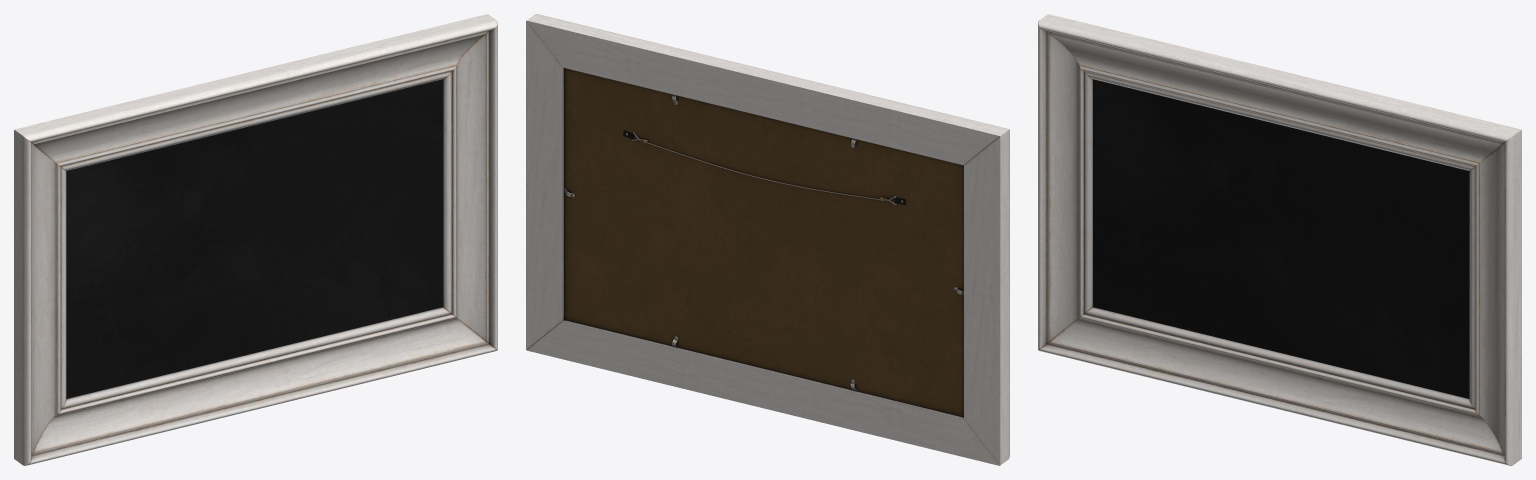
File: hanging_picture_frame_02.glb
3 views of the same model, side by side, from view 1: azimuth 30°, elevation 25°; view 2: azimuth 150°, elevation 25°; view 3: azimuth 330°, elevation 25° (orthographic).
Visible parts, largest first — view 1: hanging_picture_frame_02; view 2: hanging_picture_frame_02; view 3: hanging_picture_frame_02.
Boxes of the visible parts, left/top/right/bottom form: hanging_picture_frame_02: left=14, top=14, right=497, bottom=465; hanging_picture_frame_02: left=526, top=14, right=1009, bottom=465; hanging_picture_frame_02: left=1038, top=14, right=1521, bottom=465.
Bounding box in the file's own units: 0.7518 × 0.5 × 0.0331.
3 materials, 3 textured.
